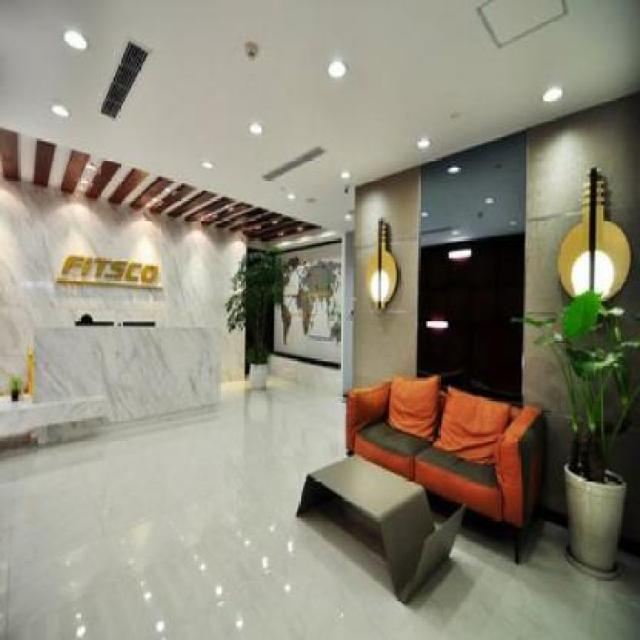frontdesk: (0, 315, 225, 448)
